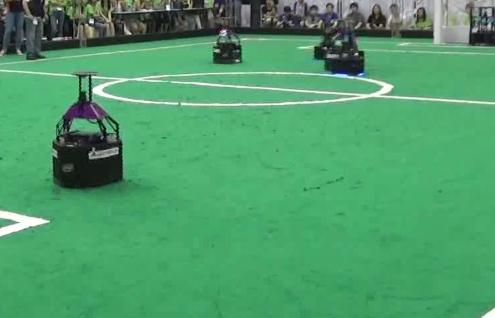robot: (50, 69, 125, 190), (325, 19, 366, 77), (211, 15, 244, 67)
